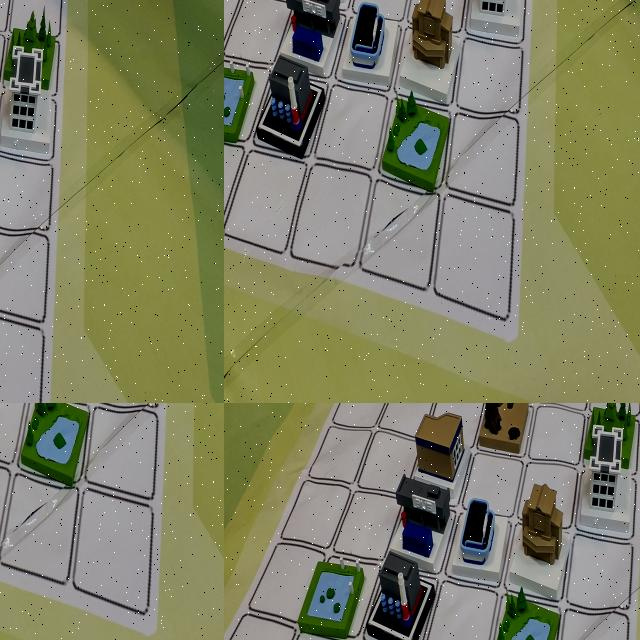bus_stop: (384, 474, 453, 572), (0, 200, 29, 298), (0, 403, 34, 460), (224, 218, 240, 272)
factory: (24, 488, 96, 616), (360, 546, 439, 640), (0, 0, 26, 37)
fish_pool: (292, 541, 370, 640), (114, 403, 182, 459), (0, 294, 30, 397)
forest: (0, 510, 36, 635), (578, 403, 640, 460), (0, 189, 37, 277), (224, 271, 239, 322)
gogo_shop: (443, 483, 515, 587), (0, 403, 34, 483), (224, 226, 240, 275)
research_build: (572, 423, 640, 537), (31, 403, 97, 460), (0, 21, 26, 107)
restaurant: (405, 403, 468, 501), (31, 403, 103, 467), (0, 113, 26, 201), (224, 266, 239, 321)
silicate_rock: (475, 403, 537, 471), (0, 579, 56, 640), (0, 51, 26, 131), (224, 183, 241, 231)
volunteer_center: (507, 468, 573, 597), (0, 486, 38, 607), (0, 150, 31, 242)
wet_land: (488, 574, 560, 640), (0, 403, 38, 492), (0, 169, 28, 260)
